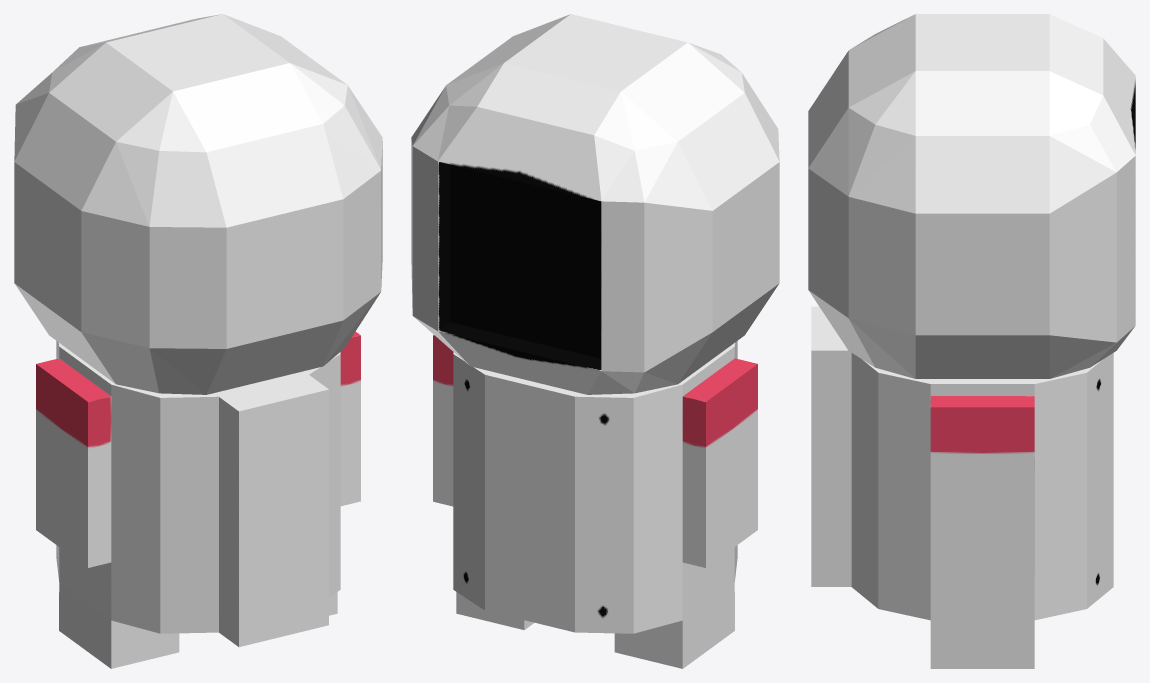
The model's file is player.obj.
3 views of the same model, side by side, from view 1: azimuth 30°, elevation 25°; view 2: azimuth 150°, elevation 25°; view 3: azimuth 270°, elevation 25° (orthographic).
Visible parts, largest first — view 1: 立方体.001; view 2: 立方体.001; view 3: 立方体.001.
Part boxes in pixels (<box>): 立方体.001: <box>14,14,382,668</box>; 立方体.001: <box>411,14,779,668</box>; 立方体.001: <box>808,14,1135,668</box>.
Bounding box in the file's own units: 2.34 × 4.23 × 2.2.
